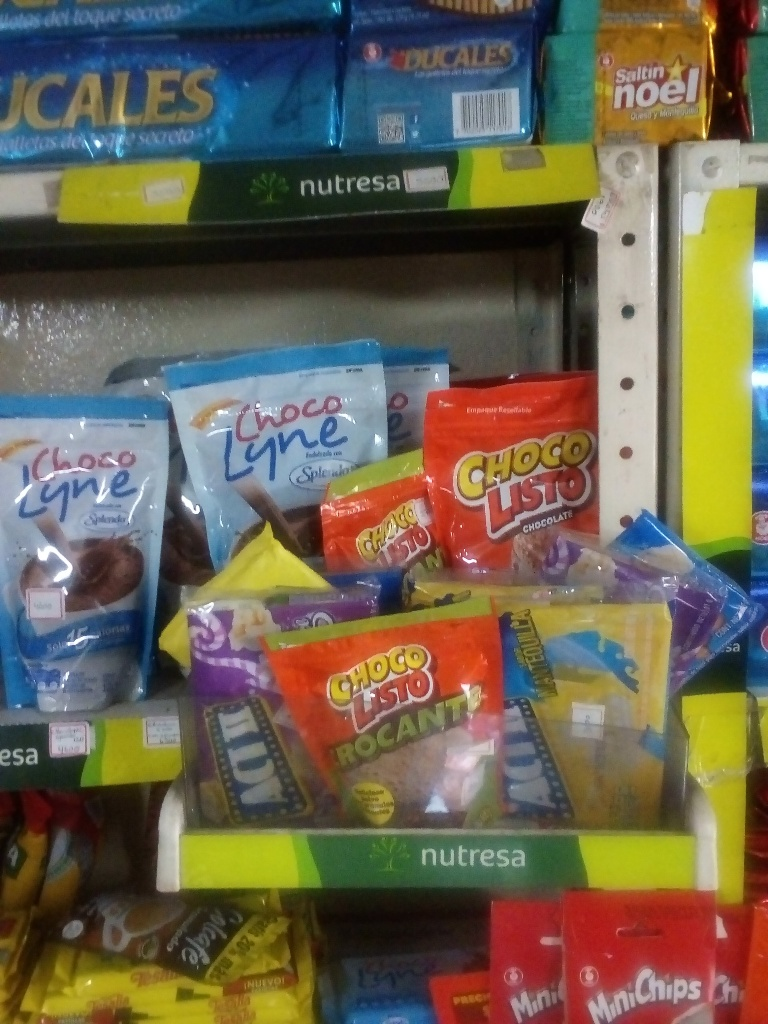COL0170102DYP10000: (276, 576, 520, 832)
